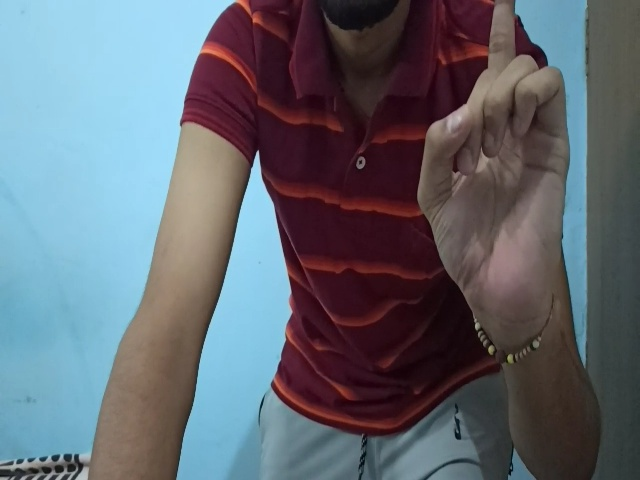D: (416, 2, 570, 339)
